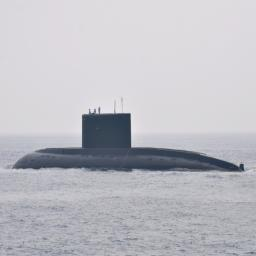submarine: (11, 114, 252, 170)
